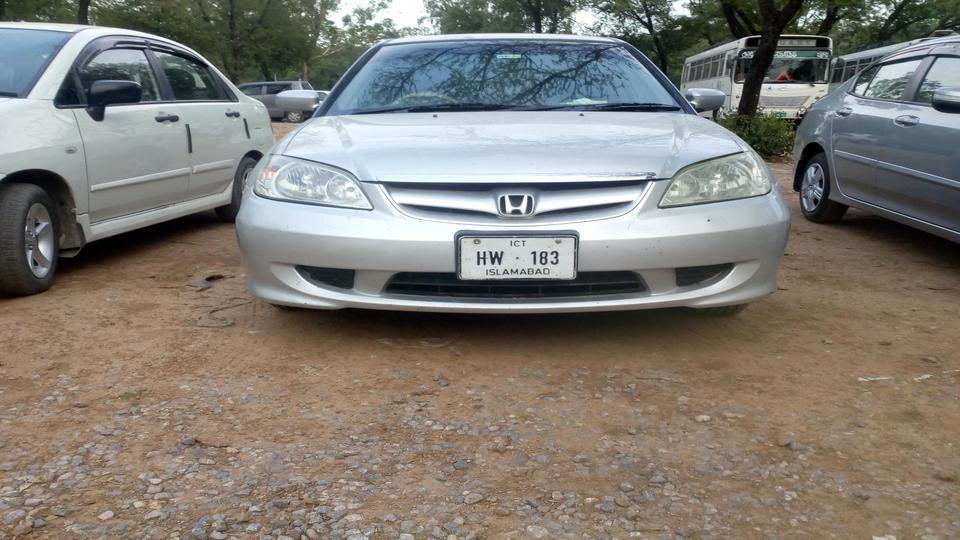NumberPlate: (458, 233, 580, 288)
